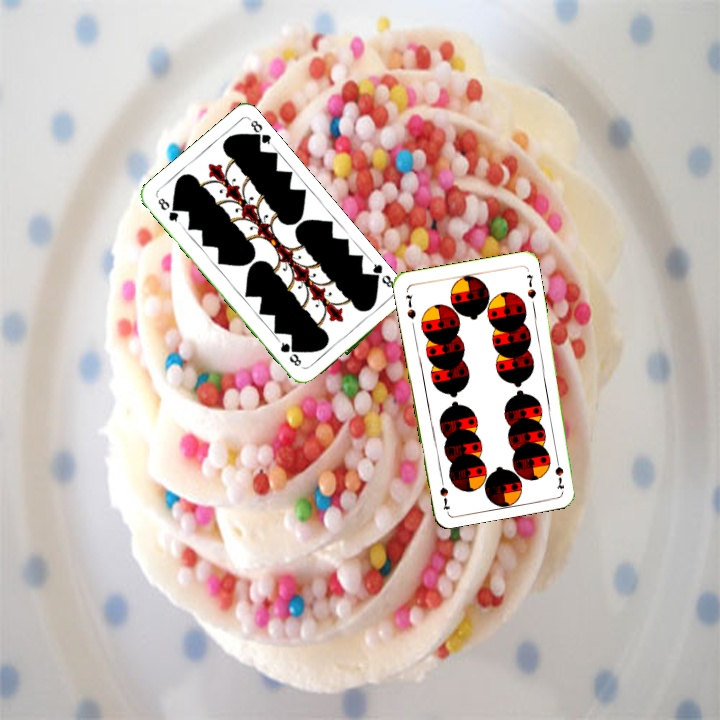G8: (366, 258, 398, 292), (154, 194, 183, 227)
S7: (551, 452, 567, 491), (401, 290, 418, 322)
